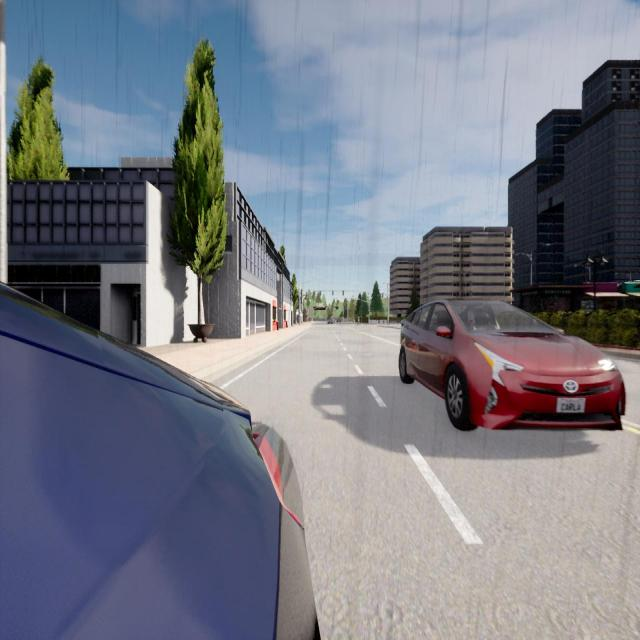Vehicle: (0, 282, 318, 640), (399, 299, 625, 430), (328, 318, 333, 324), (336, 318, 341, 322)
traffic_light: (332, 290, 334, 296), (368, 310, 370, 314), (342, 291, 344, 295), (382, 293, 383, 298), (320, 291, 321, 295)
